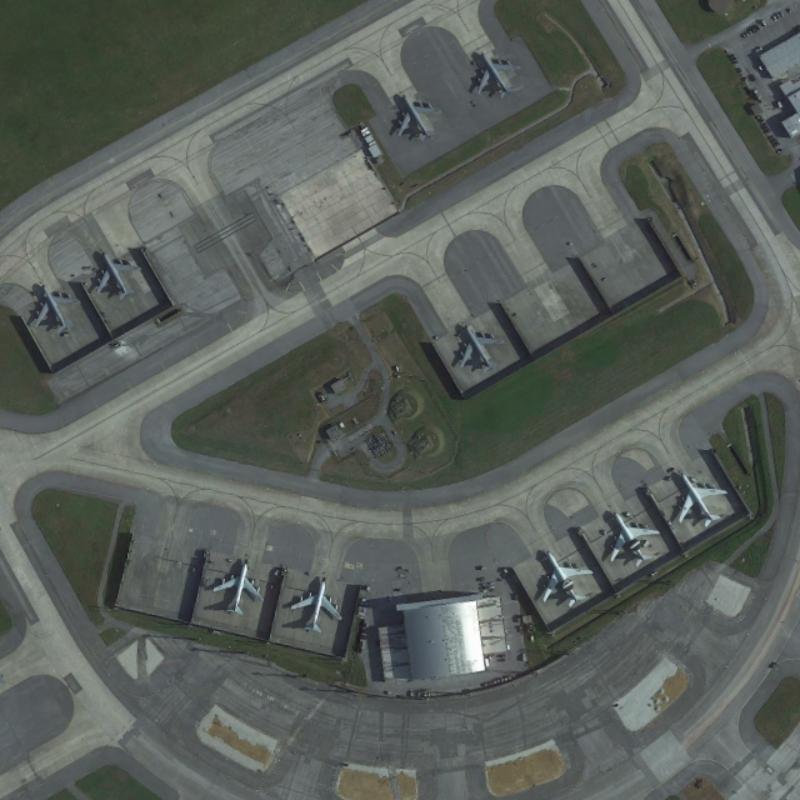A11: (281, 569, 348, 638), (671, 461, 733, 535), (206, 552, 262, 617)
A14: (23, 275, 85, 339), (393, 83, 446, 145), (449, 315, 505, 373), (86, 245, 140, 305), (466, 46, 526, 99)
A7: (532, 540, 600, 613), (599, 503, 665, 575)
